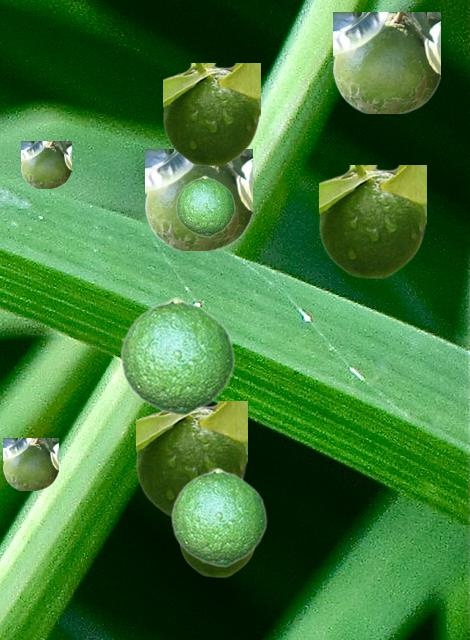dalandan: (119, 296, 234, 415), (136, 401, 246, 516), (319, 165, 425, 277), (145, 149, 251, 249), (333, 12, 439, 112), (163, 63, 259, 165), (170, 467, 266, 566), (175, 175, 234, 236), (3, 438, 57, 489), (21, 141, 70, 187), (179, 546, 254, 576)
